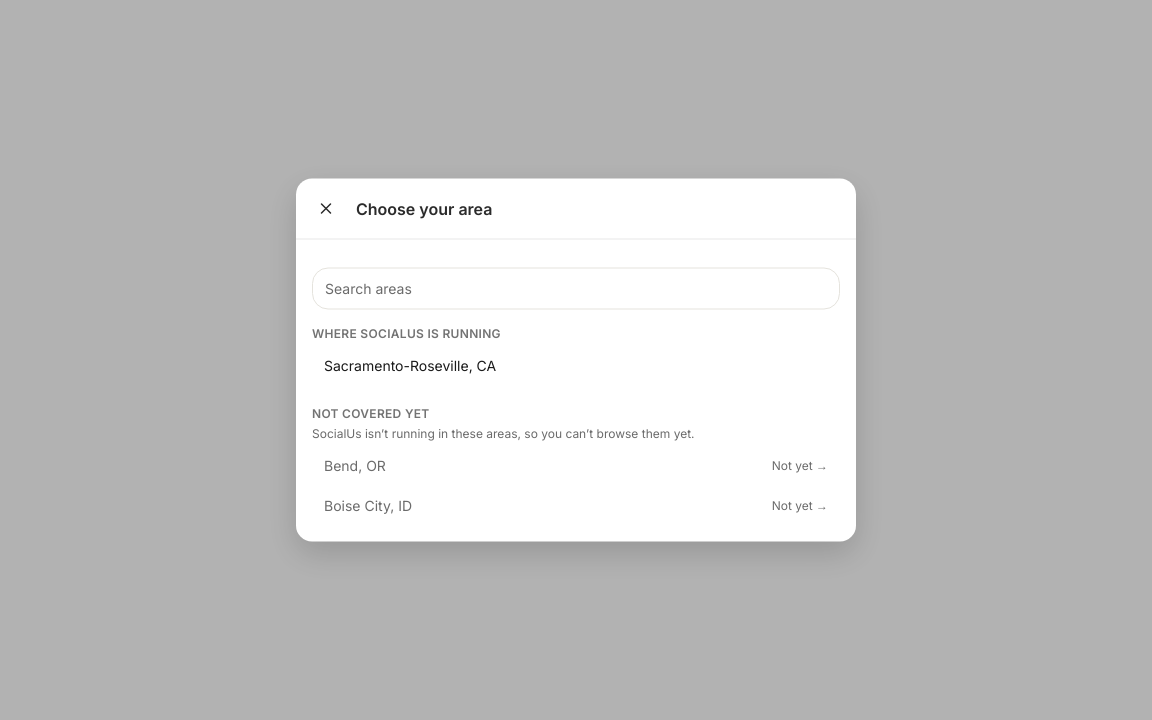
Scenario: AreaPicker › searches across both groups
In the search field with test id "scope-search": (576, 288) [312,268,840,310], type "bend"
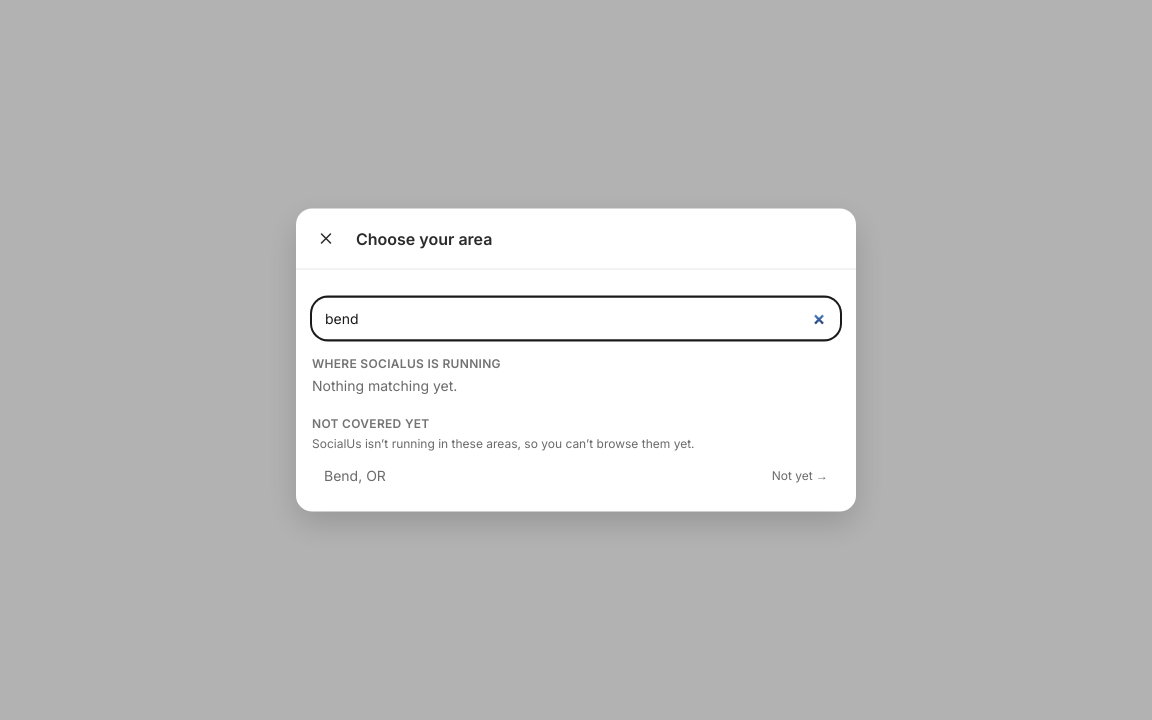
Check: the button with test id "scope-metro-bend-or" is shown, box [312,456,840,496]
Check: the button with test id "scope-metro-boise-city-id" is gone
Check: the button with test id "scope-metro-sacramento-roseville-ca" is gone
